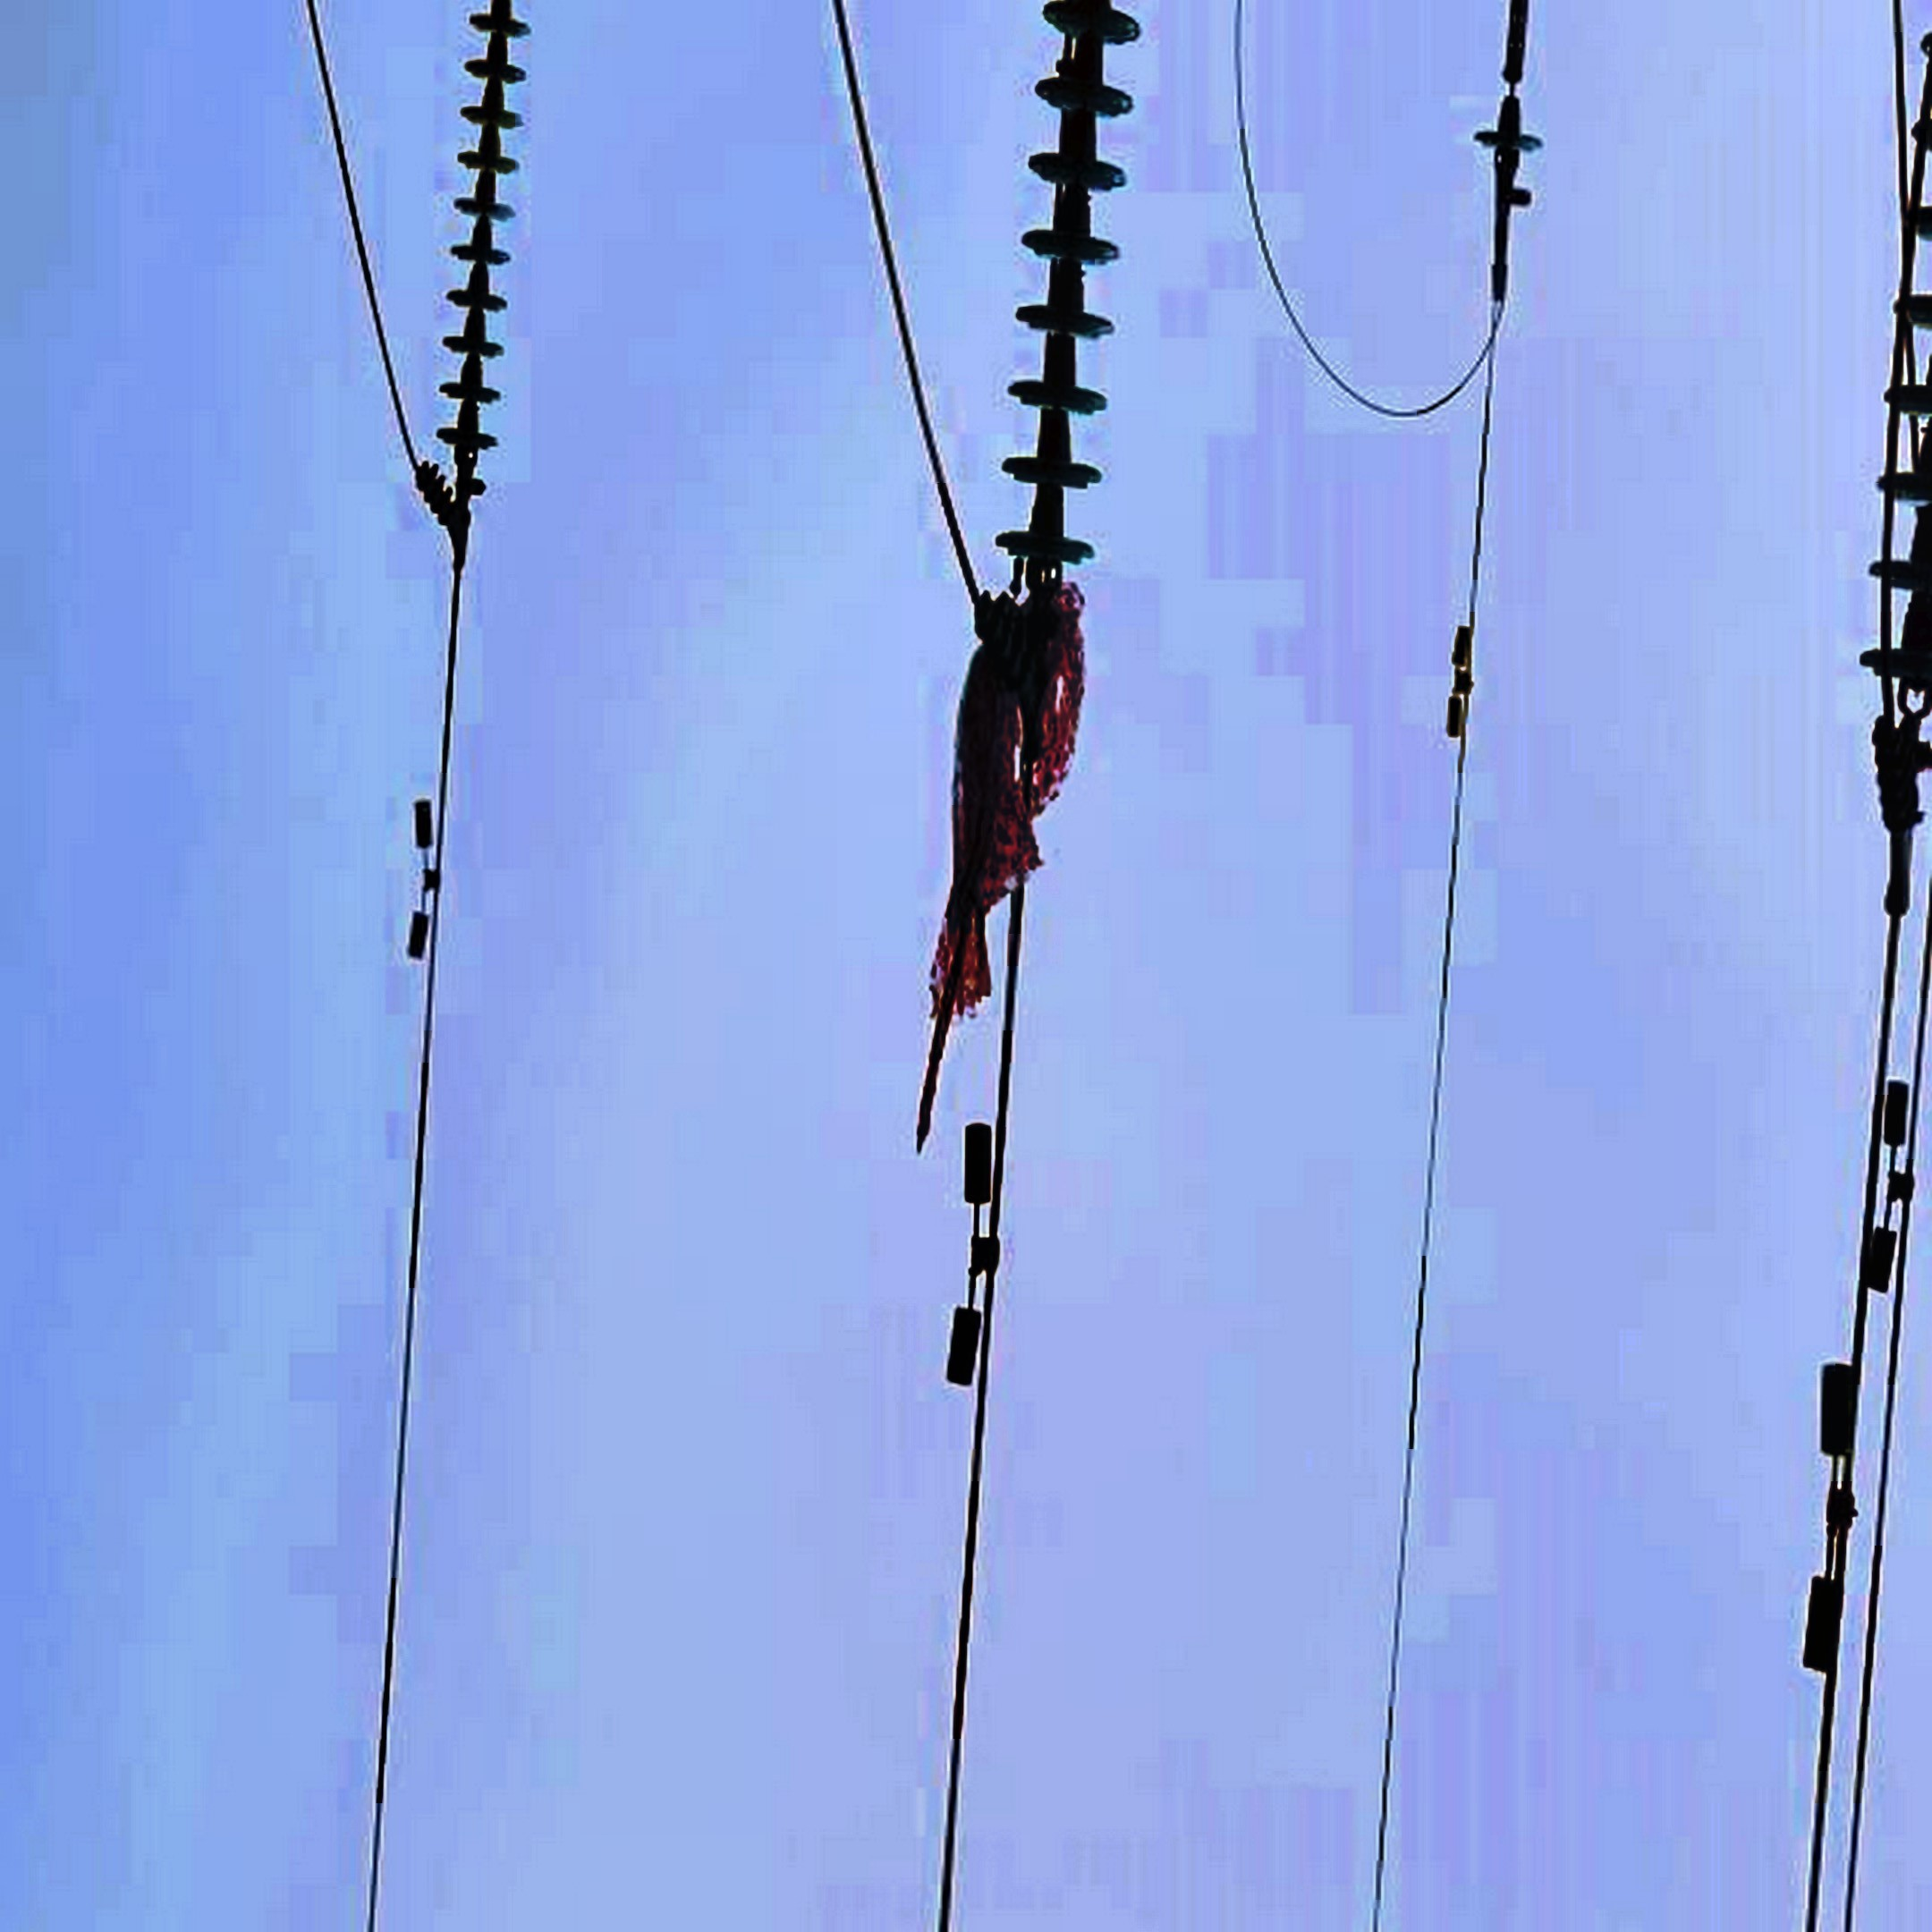wire foreign body: (867, 538, 1180, 1159)
